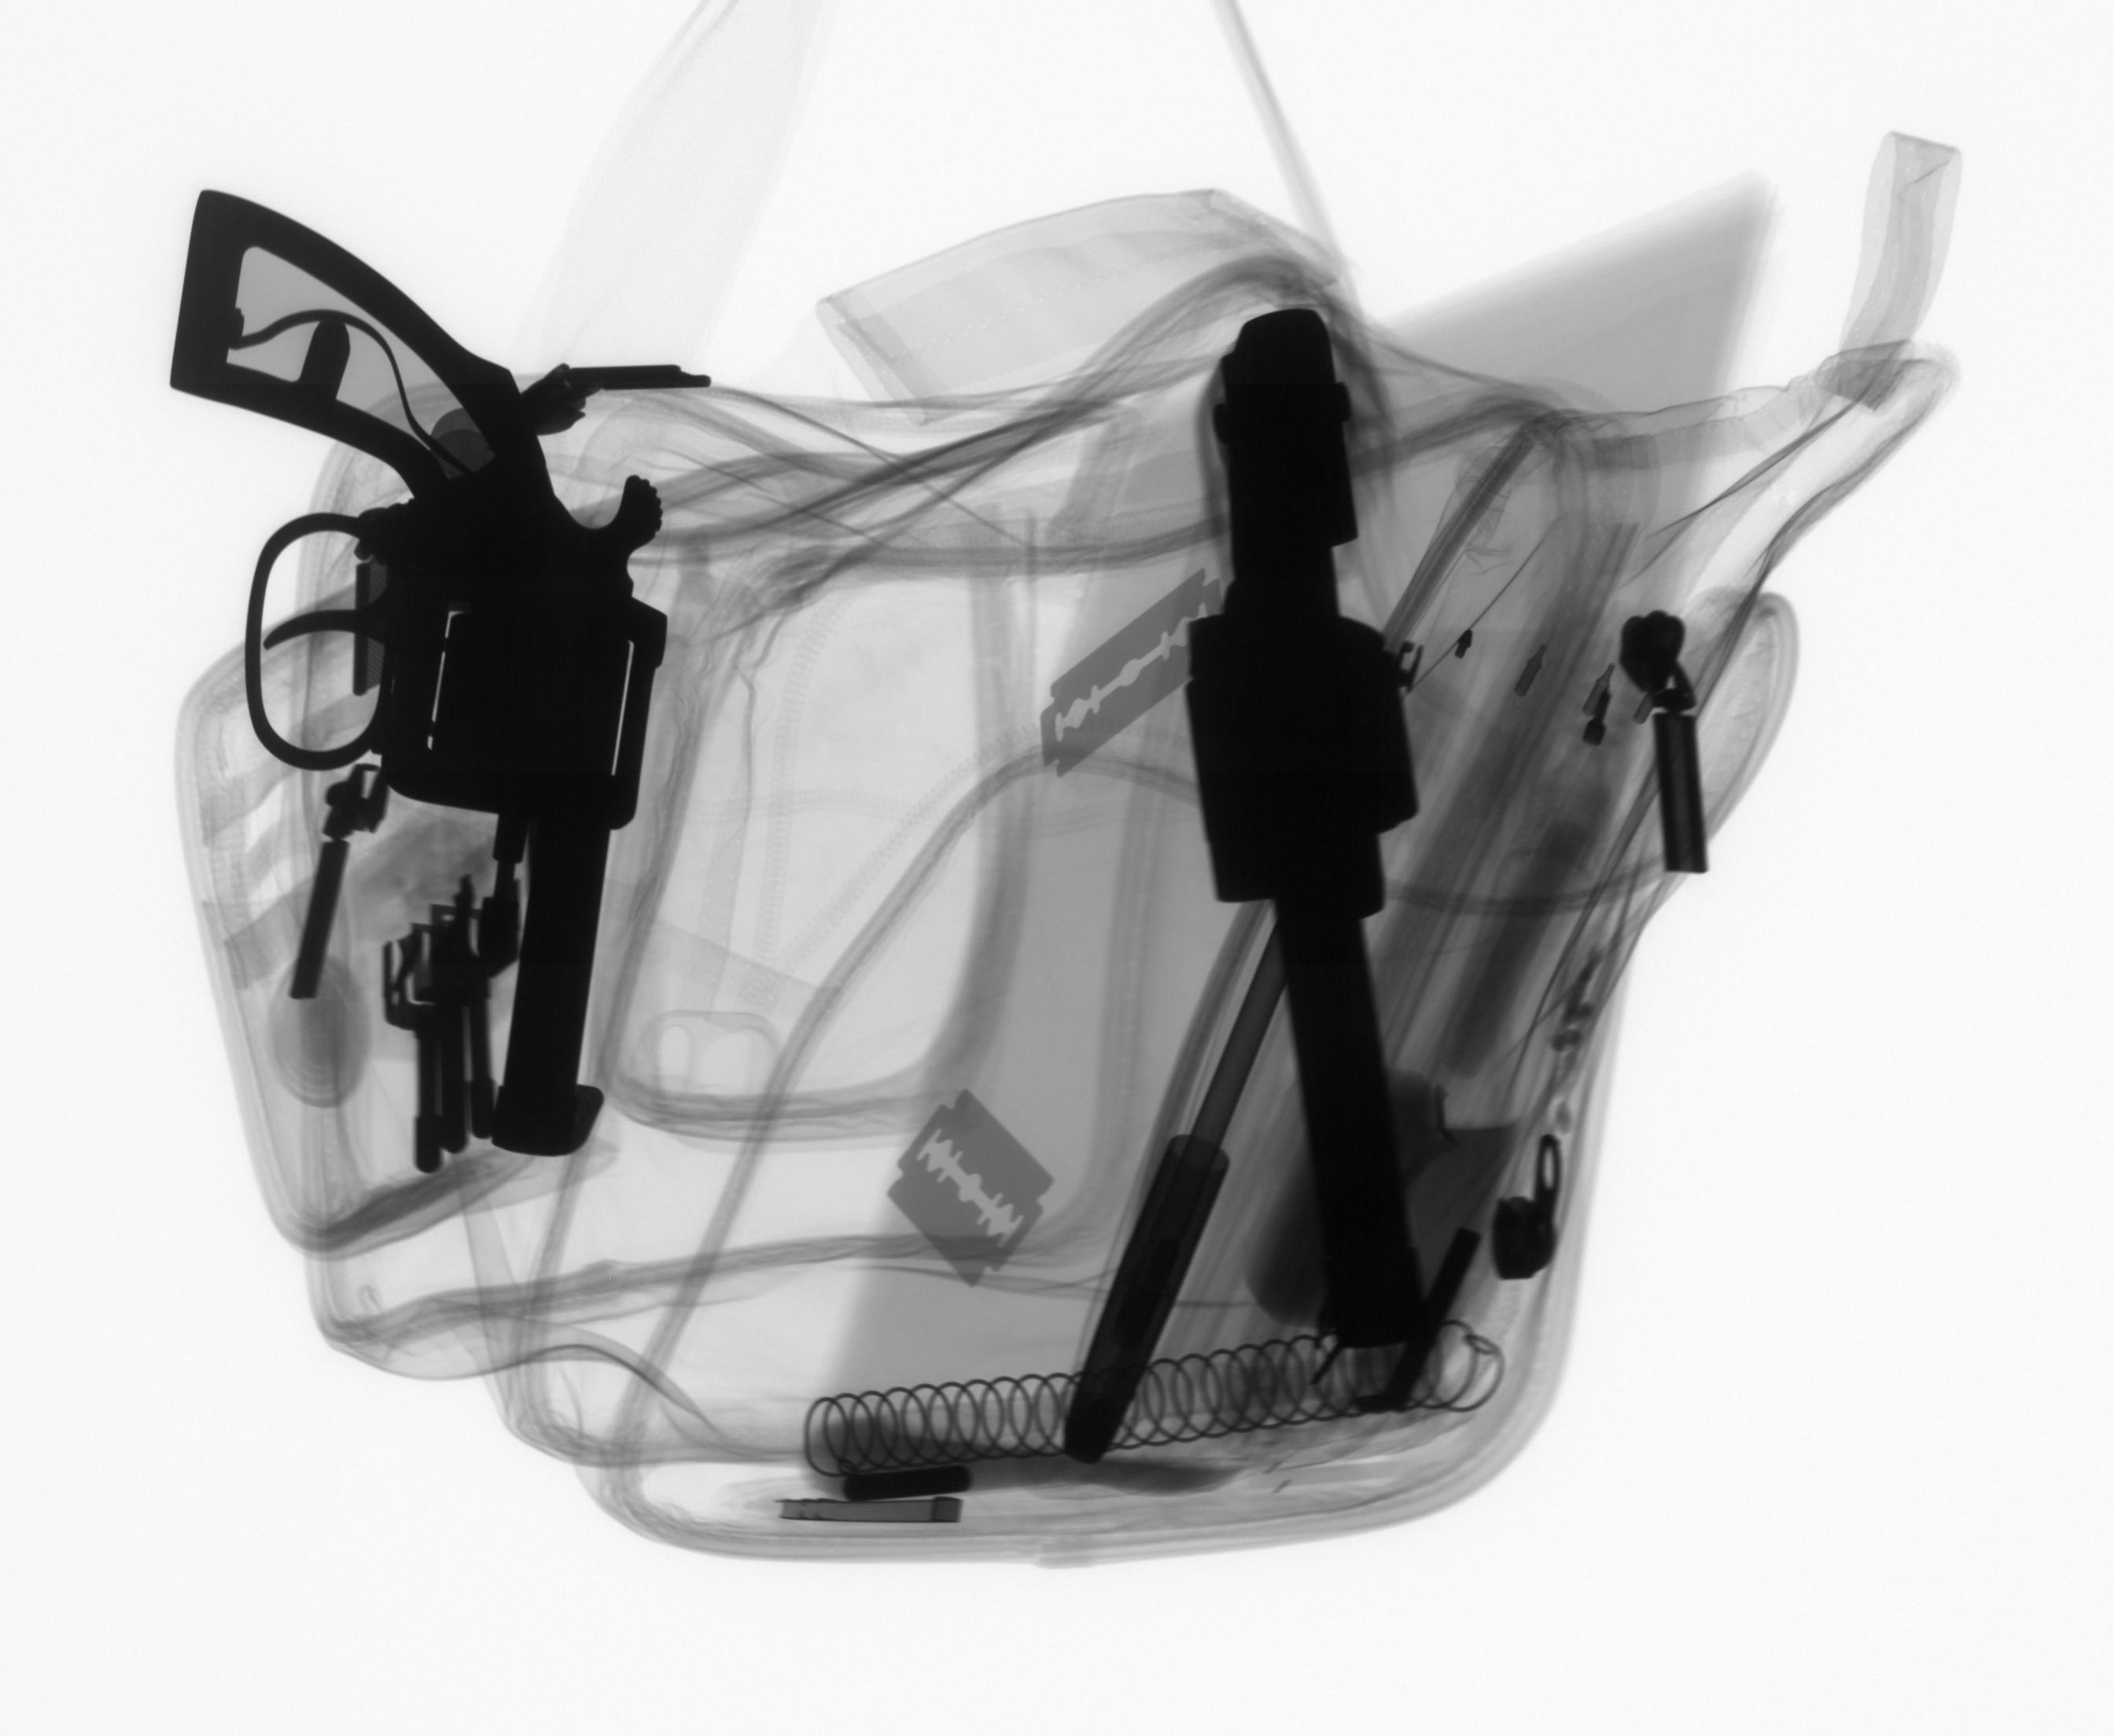Handgun: (155, 167, 679, 1197), (1154, 293, 1489, 1381)
RazorBlade: (1032, 565, 1224, 790), (881, 1083, 1068, 1295)
